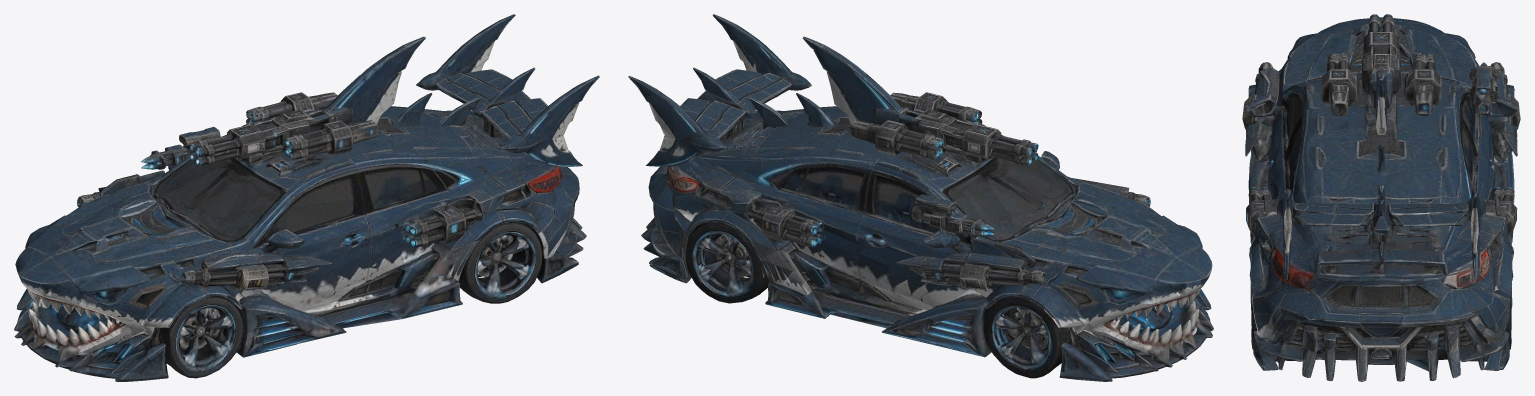
The model's file is megalodon.glb.
3 renders of one model, left to right at view 1: azimuth 30°, elevation 25°; view 2: azimuth 150°, elevation 25°; view 3: azimuth 270°, elevation 25°, orthographic. The views are drawn at different scales.
Parts seen in each view (by area): view 1: Mesh_0; view 2: Mesh_0; view 3: Mesh_0.
Boxes of the visible parts, x1,y1,x2,y2 form: Mesh_0: (14,14,599,381); Mesh_0: (628,14,1213,381); Mesh_0: (1242,14,1520,381).
Size of the model in its own units: 1.9 by 0.7786 by 0.7652.
Materials: 1 (1 with a texture image).
